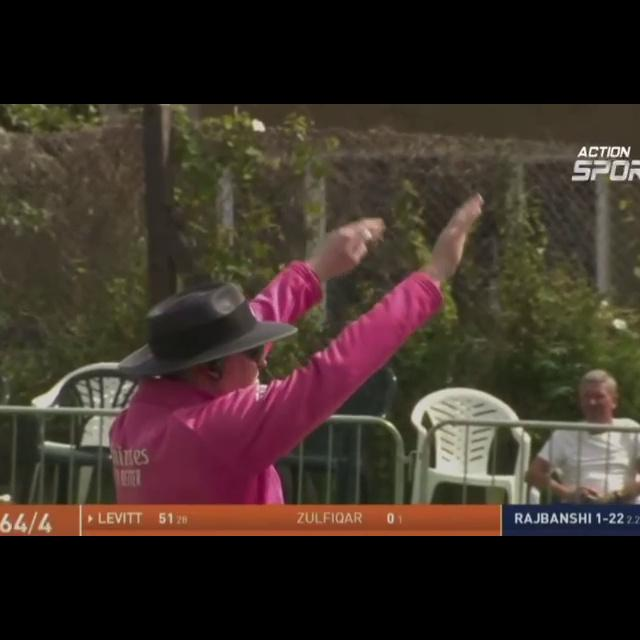umpire: (83, 131, 501, 496)
